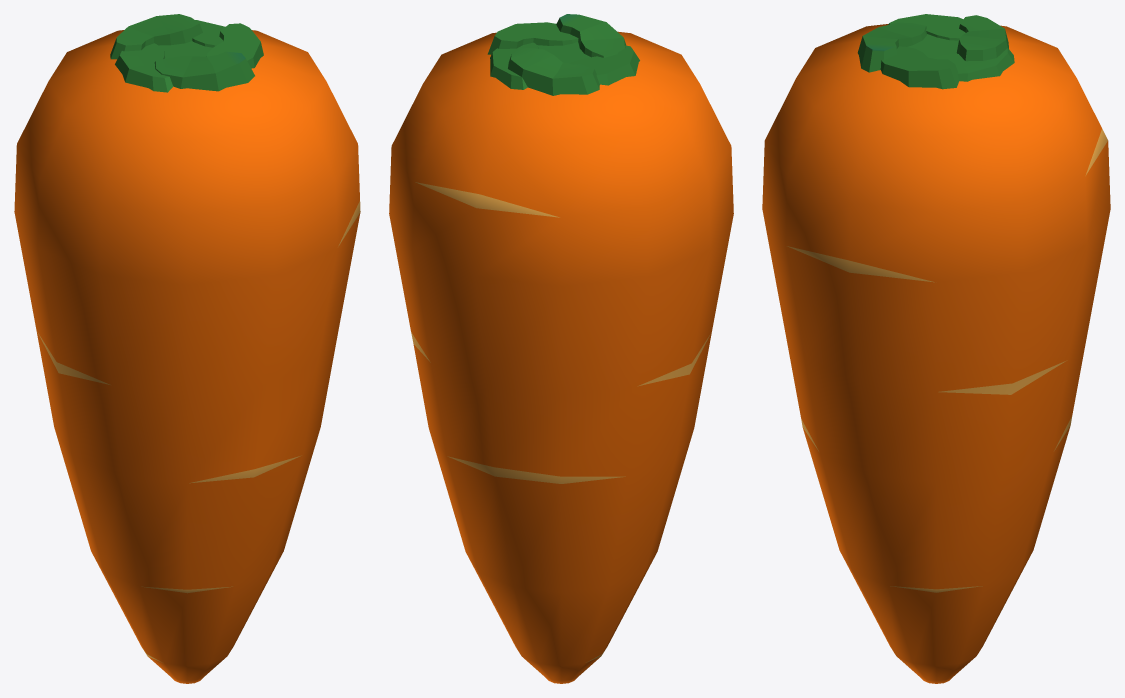
The model's file is carrot.fbx.
3 renders of one model, left to right at view 1: azimuth 30°, elevation 25°; view 2: azimuth 150°, elevation 25°; view 3: azimuth 270°, elevation 25°, orthographic.
Visible parts, largest first — view 1: Carrot; view 2: Carrot; view 3: Carrot.
Part boxes in pixels (left/top/right/bottom): Carrot: left=14, top=14, right=360, bottom=683; Carrot: left=389, top=14, right=733, bottom=683; Carrot: left=762, top=14, right=1110, bottom=683.
Bounding box in the file's own units: 121 × 246 × 121.
